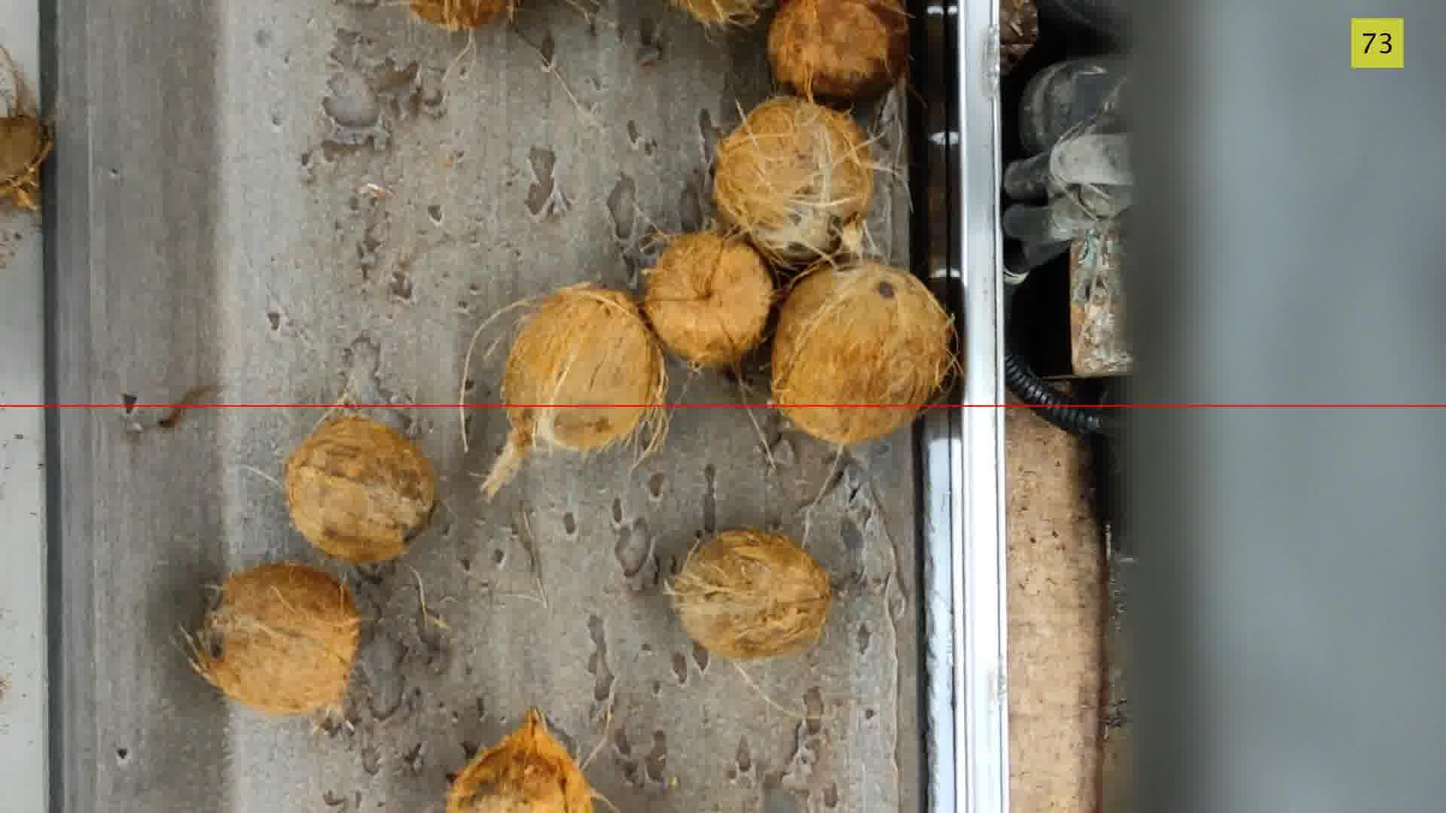Coconut: (481, 283, 668, 498), (771, 260, 958, 446), (180, 560, 380, 717), (712, 96, 878, 266), (282, 414, 438, 563), (670, 529, 832, 660), (643, 230, 775, 367), (447, 709, 595, 812), (767, 0, 909, 101), (0, 47, 53, 210), (409, 0, 519, 32), (670, 0, 771, 27)
